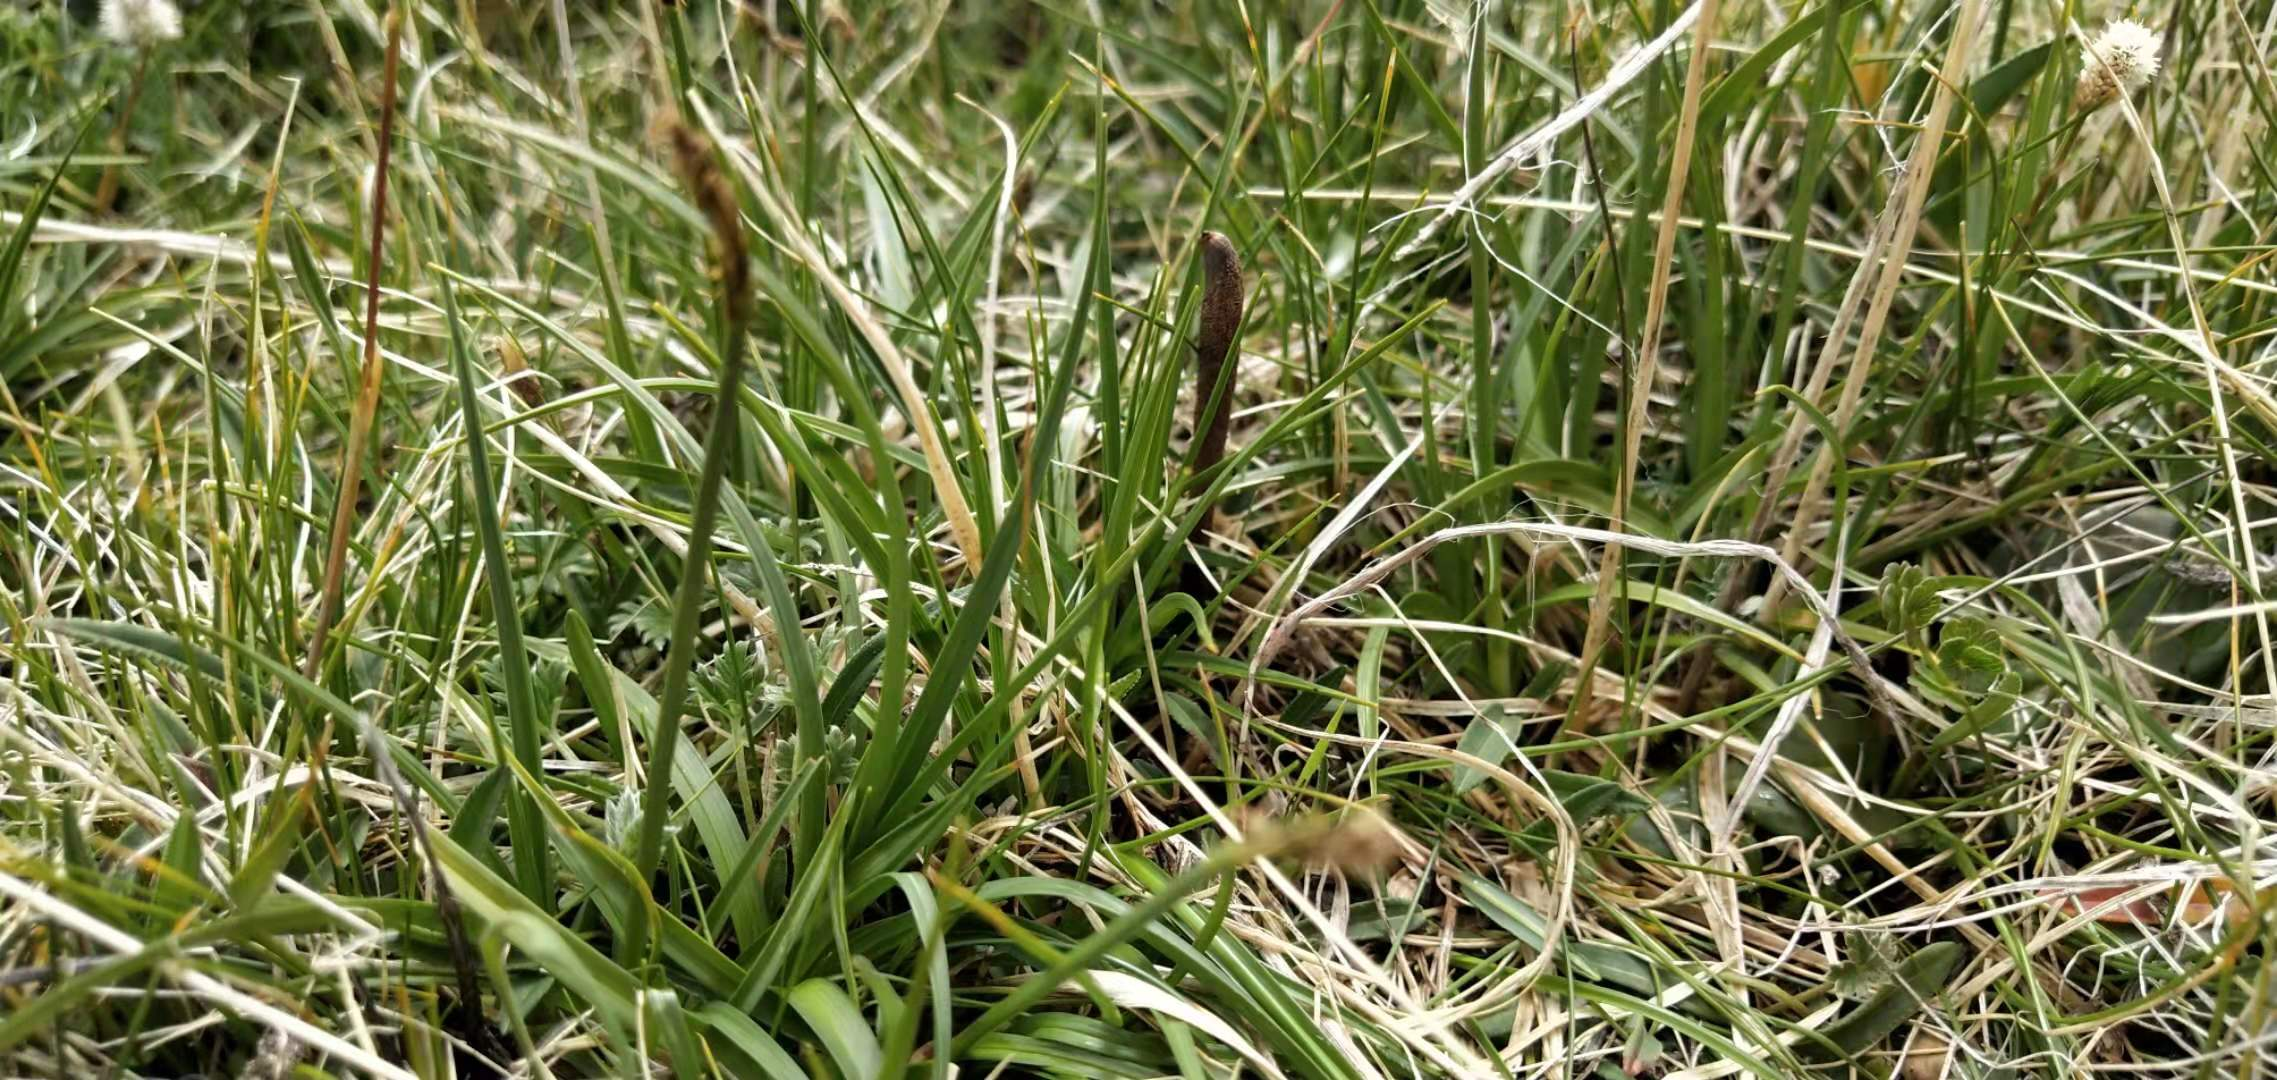cpf: (1185, 229, 1245, 562)
